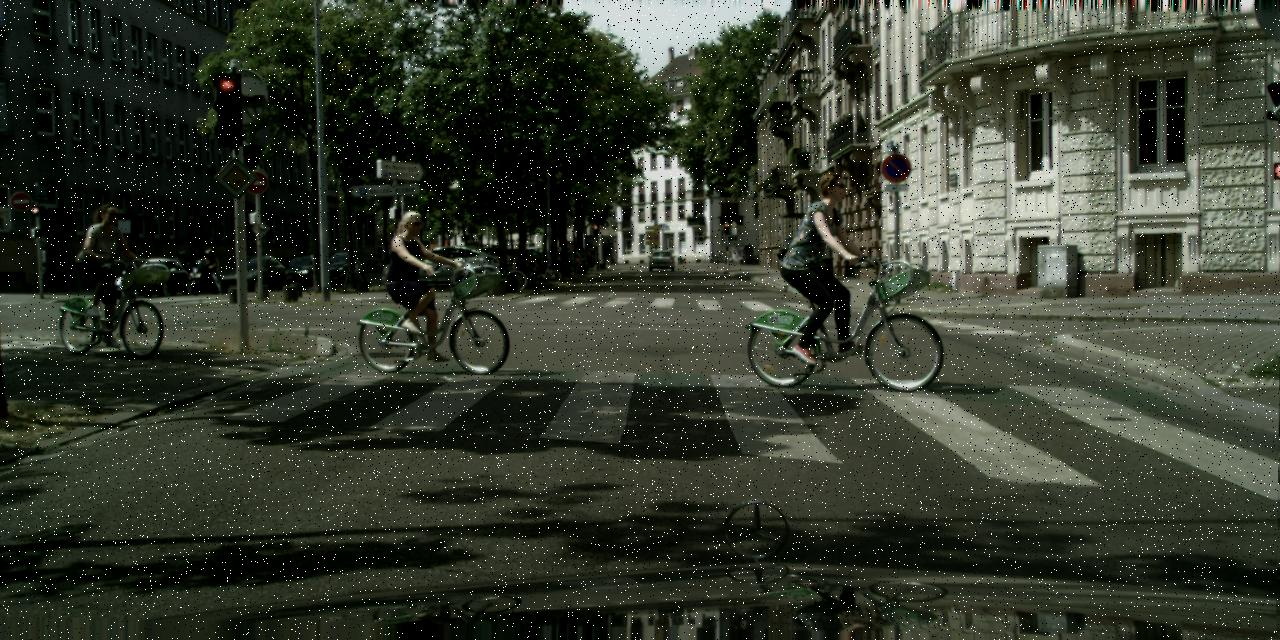ped: (794, 171, 871, 361), (390, 210, 448, 354), (78, 203, 133, 339), (201, 249, 218, 293), (208, 248, 223, 286), (176, 250, 189, 282)
